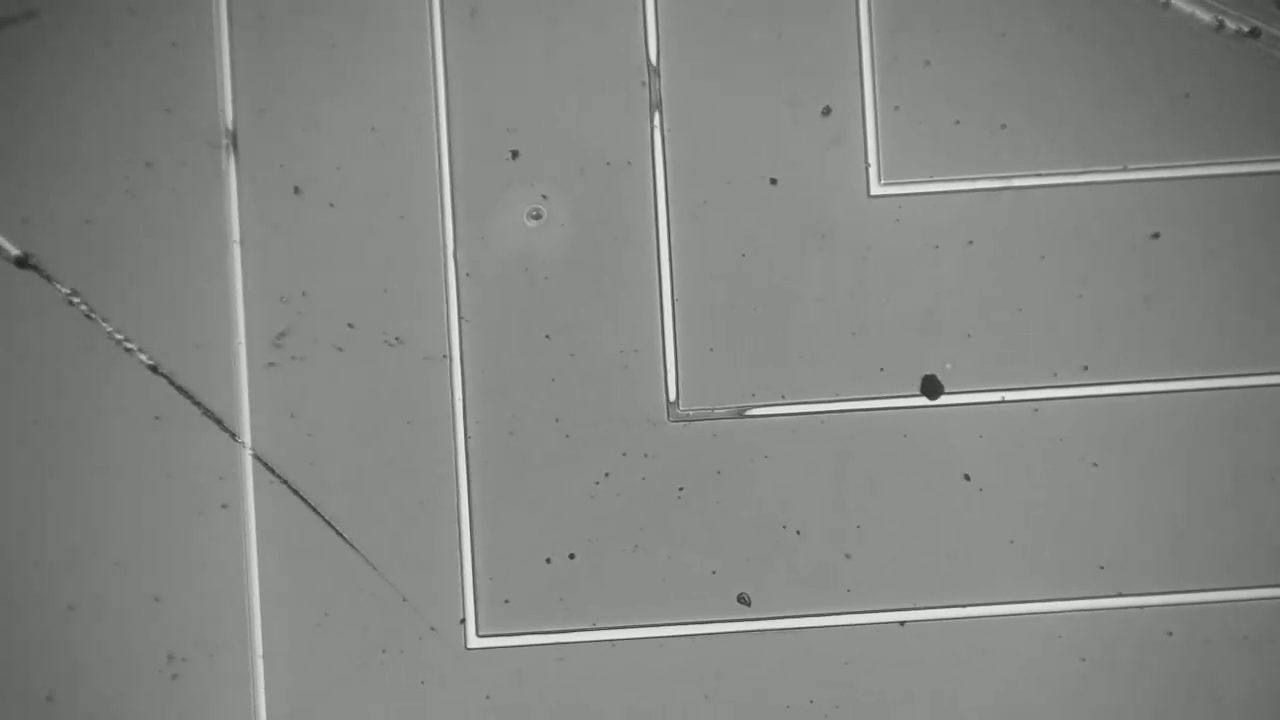edge_bite: (861, 157, 888, 171)
gray_line: (658, 397, 761, 428), (638, 43, 671, 124), (211, 111, 248, 170), (656, 387, 691, 434)
scratch: (2, 247, 404, 599), (1152, 1, 1280, 101)
stains_enbedded: (910, 367, 956, 419)
